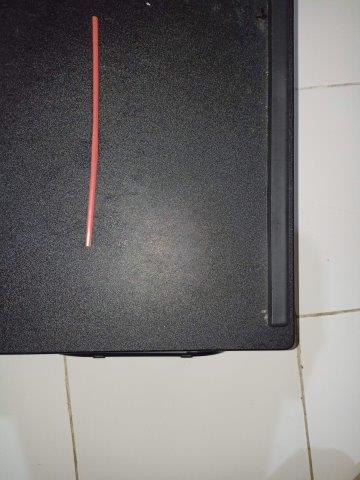sedotan: (85, 17, 98, 246)
